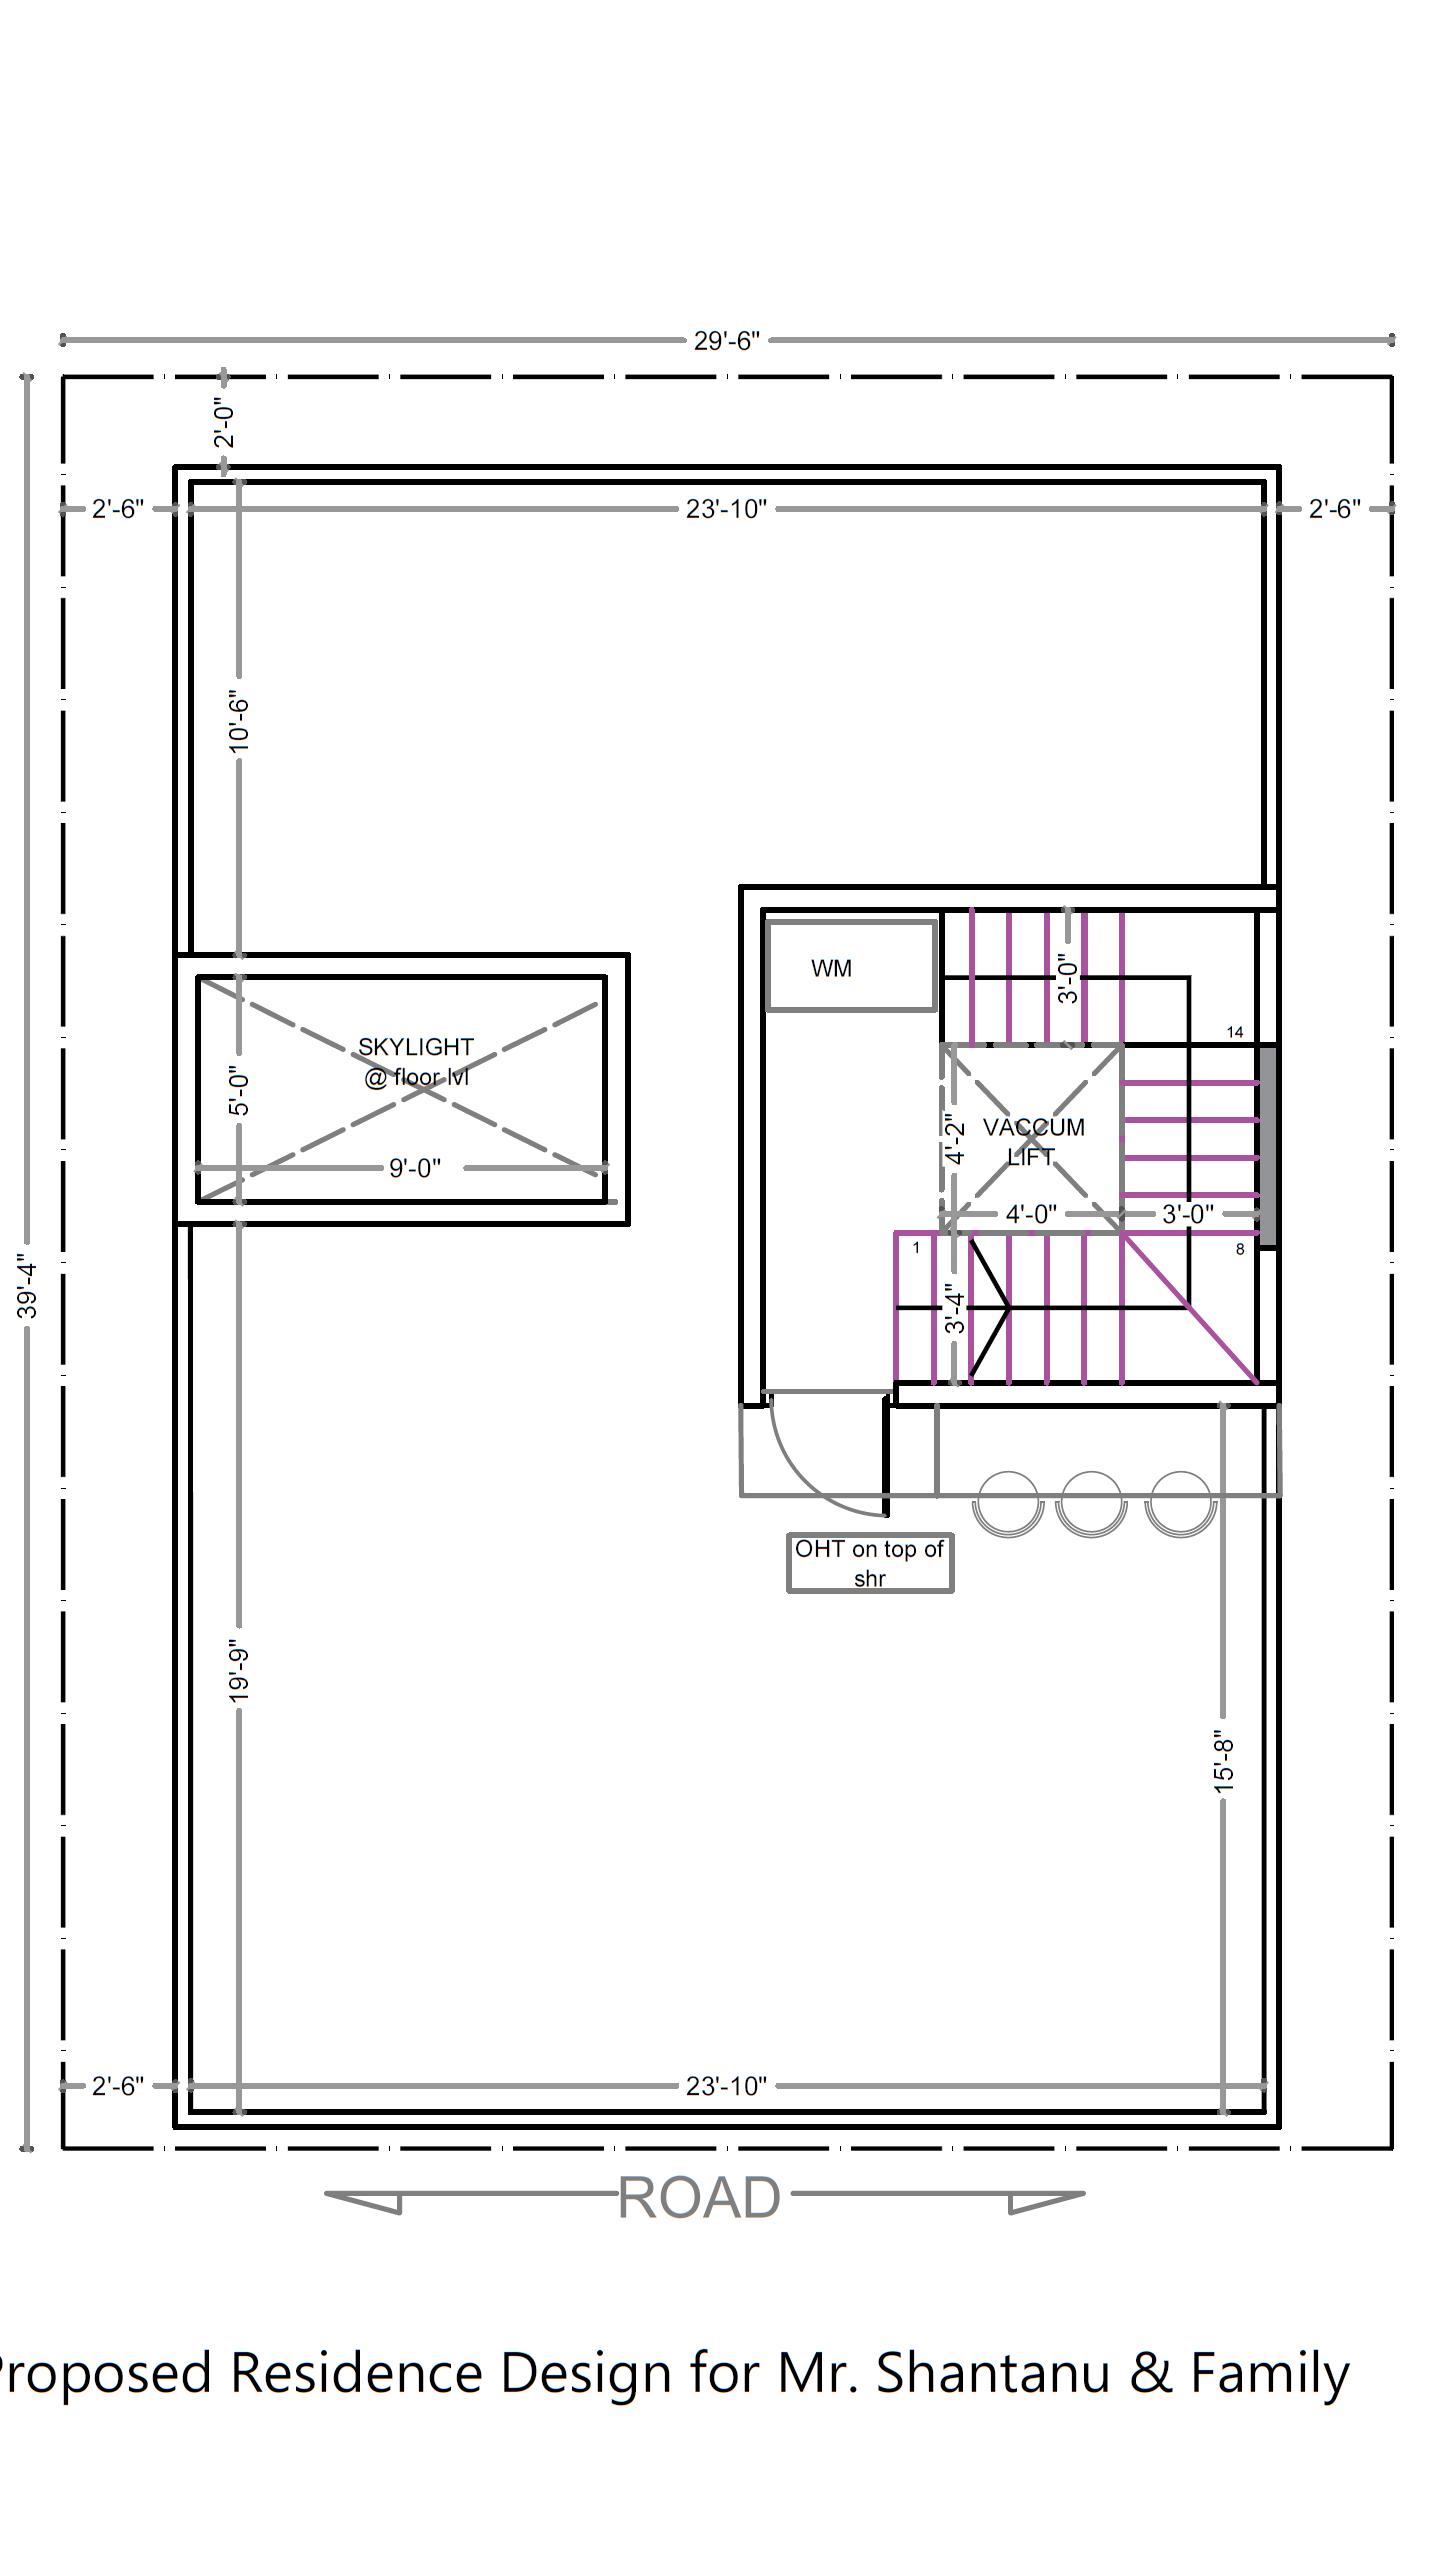door: (761, 1385, 898, 1522)
